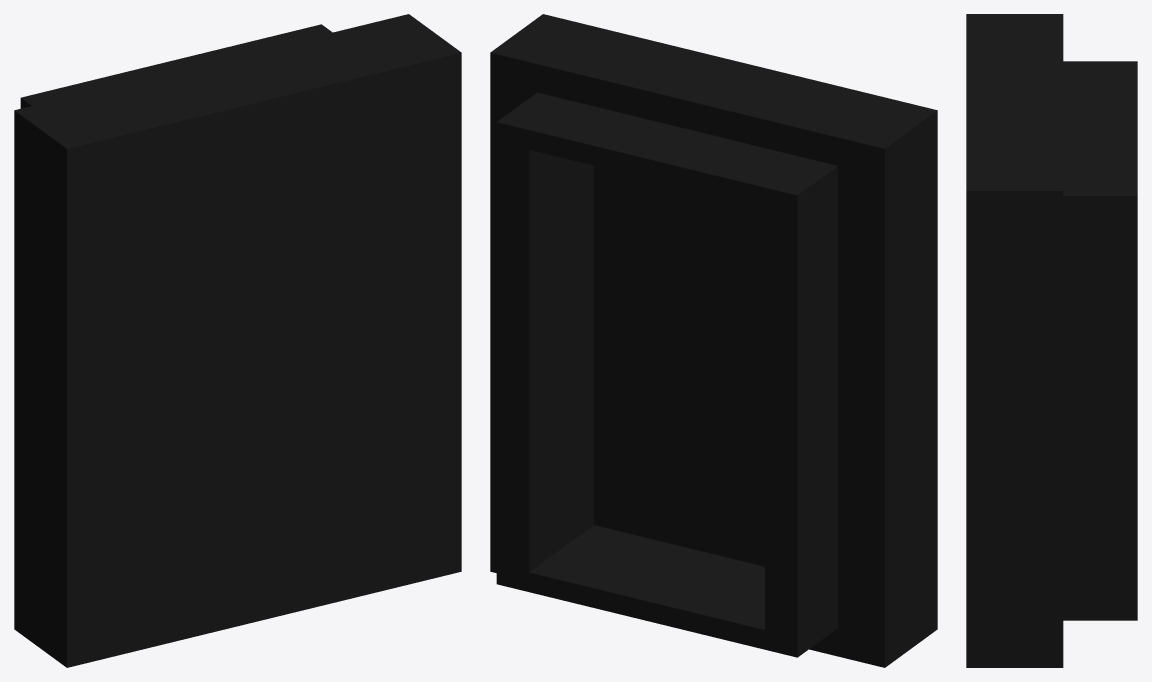
Rendered from Itr_Obj_Fridge1_Bottom_Door_Left_02.FBX.
3 renders of one model, left to right at view 1: azimuth 30°, elevation 25°; view 2: azimuth 150°, elevation 25°; view 3: azimuth 270°, elevation 25°, orthographic. The views are drawn at different scales.
Parts seen in each view (by area): view 1: Itr_Obj_Fridge1_Bottom_Door_Left_02; view 2: Itr_Obj_Fridge1_Bottom_Door_Left_02; view 3: Itr_Obj_Fridge1_Bottom_Door_Left_02.
Boxes of the visible parts, x1=… form: Itr_Obj_Fridge1_Bottom_Door_Left_02: x1=14, y1=14, x2=461, y2=667; Itr_Obj_Fridge1_Bottom_Door_Left_02: x1=490, y1=14, x2=937, y2=667; Itr_Obj_Fridge1_Bottom_Door_Left_02: x1=966, y1=14, x2=1137, y2=667.
Bounding box in the file's own units: 22.45 × 28.21 × 9.19.
